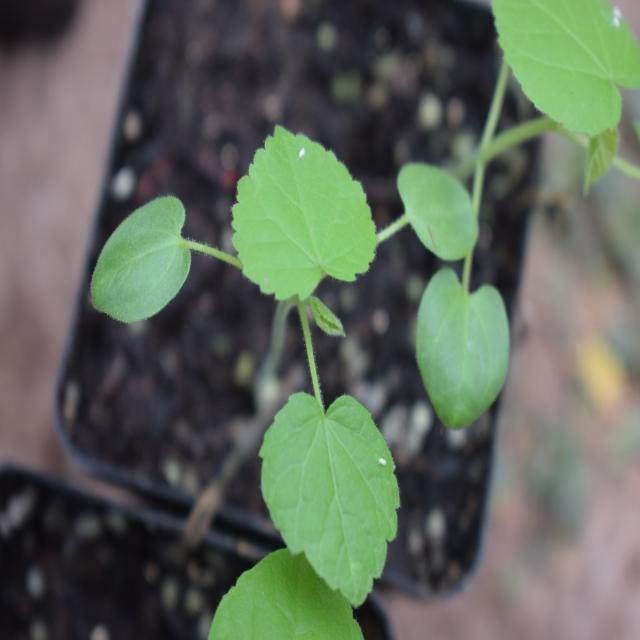abutilon theophrasti: (72, 116, 455, 620)
